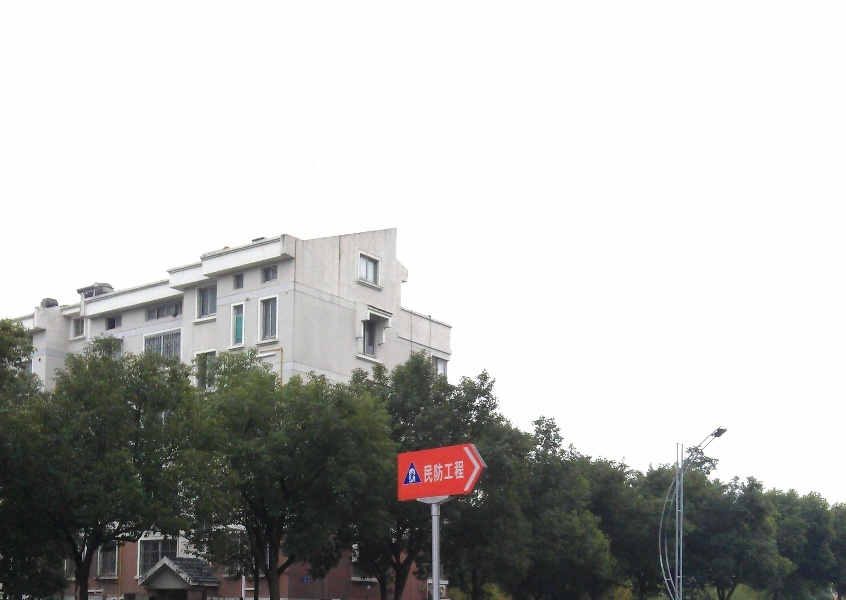text: (449, 460, 465, 484), (433, 460, 448, 484), (424, 460, 432, 484)
